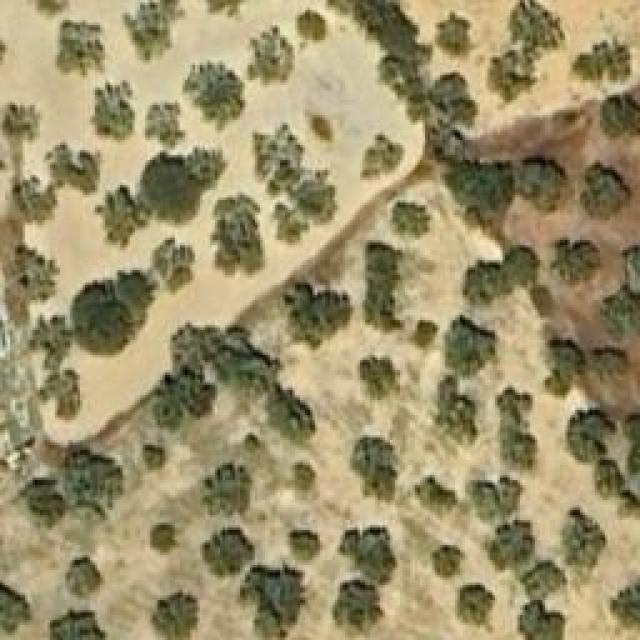Tree: (443, 157, 513, 235), (237, 560, 305, 640), (222, 327, 278, 408), (283, 283, 353, 346), (153, 365, 216, 433), (75, 283, 133, 353), (498, 385, 541, 478), (122, 0, 185, 62), (363, 243, 406, 333), (142, 155, 200, 220), (185, 65, 244, 125), (337, 525, 395, 583), (215, 200, 263, 270), (430, 375, 476, 446), (507, 0, 565, 56), (513, 152, 566, 210), (90, 80, 135, 145), (58, 20, 108, 78), (350, 438, 398, 498), (67, 450, 115, 510), (488, 50, 541, 103), (200, 465, 253, 518), (483, 520, 536, 573), (563, 505, 606, 570), (5, 245, 53, 303), (200, 528, 255, 578), (48, 143, 103, 193), (255, 130, 300, 190), (550, 238, 600, 291), (458, 257, 511, 305), (166, 320, 220, 367), (250, 30, 295, 86), (35, 366, 83, 418), (467, 478, 525, 521), (435, 73, 480, 126), (448, 318, 491, 373), (572, 40, 630, 80), (20, 480, 68, 528), (358, 348, 401, 401), (333, 578, 378, 628), (100, 188, 140, 243), (583, 165, 623, 220), (433, 12, 479, 59), (153, 592, 198, 640), (295, 172, 340, 220), (273, 383, 316, 433), (570, 408, 610, 461), (363, 130, 406, 178), (50, 607, 107, 640), (517, 602, 565, 640), (600, 93, 640, 138), (10, 180, 55, 220), (457, 585, 495, 630), (605, 290, 640, 338), (520, 560, 568, 595), (295, 8, 333, 51), (158, 242, 191, 290), (543, 340, 583, 378), (65, 558, 100, 601), (413, 478, 458, 511), (508, 240, 541, 285), (30, 322, 68, 360), (610, 585, 640, 633), (148, 103, 183, 143), (2, 105, 40, 140), (392, 203, 430, 236), (433, 545, 466, 578), (288, 460, 318, 495), (0, 582, 20, 630), (305, 110, 333, 143), (150, 523, 180, 553), (593, 350, 623, 380), (240, 432, 268, 460), (207, 0, 245, 20), (413, 320, 438, 350), (290, 530, 320, 555), (620, 415, 640, 445), (143, 445, 166, 470)
